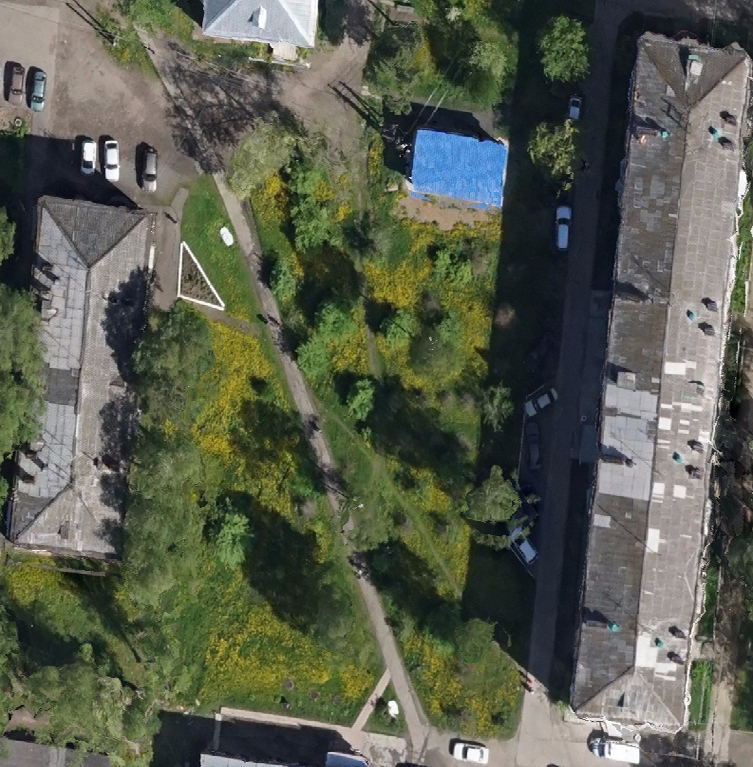build: (569, 10, 753, 745), (8, 190, 160, 575), (400, 117, 515, 218), (199, 2, 324, 66), (190, 740, 375, 767)
